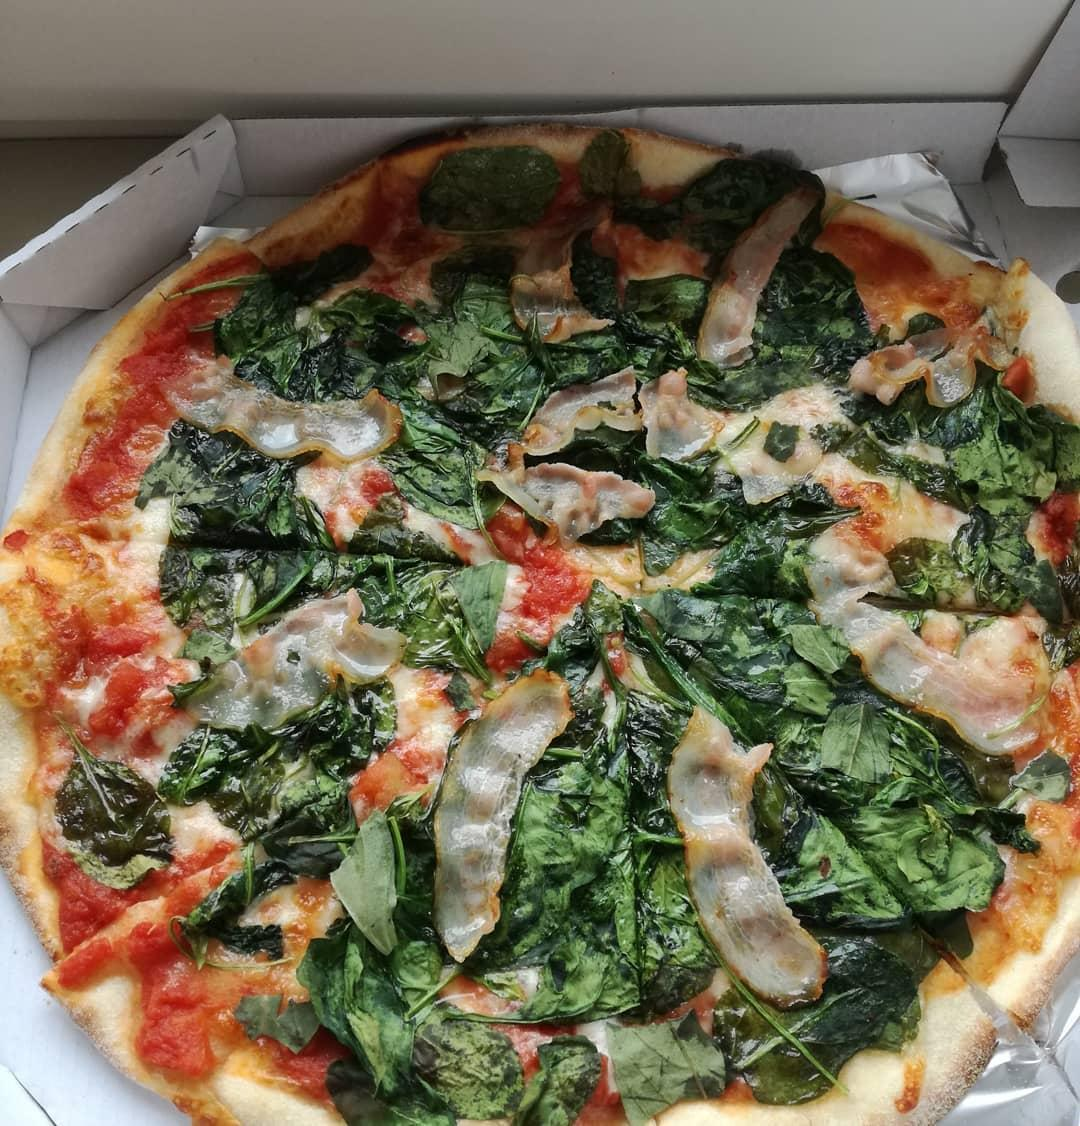Arugula: (762, 697, 1035, 944), (48, 715, 372, 908), (308, 911, 611, 1115), (128, 418, 350, 601), (401, 251, 652, 413), (628, 959, 901, 1101), (834, 351, 1068, 511), (574, 568, 821, 697), (663, 167, 828, 358), (354, 498, 516, 660), (227, 252, 411, 394), (404, 138, 616, 237)
Ham: (665, 698, 834, 1001), (807, 525, 1034, 744), (427, 665, 567, 955), (675, 165, 845, 375), (141, 338, 400, 466), (141, 611, 409, 731), (642, 368, 836, 502), (471, 431, 652, 551)
Pizza: (14, 138, 1080, 1126)
